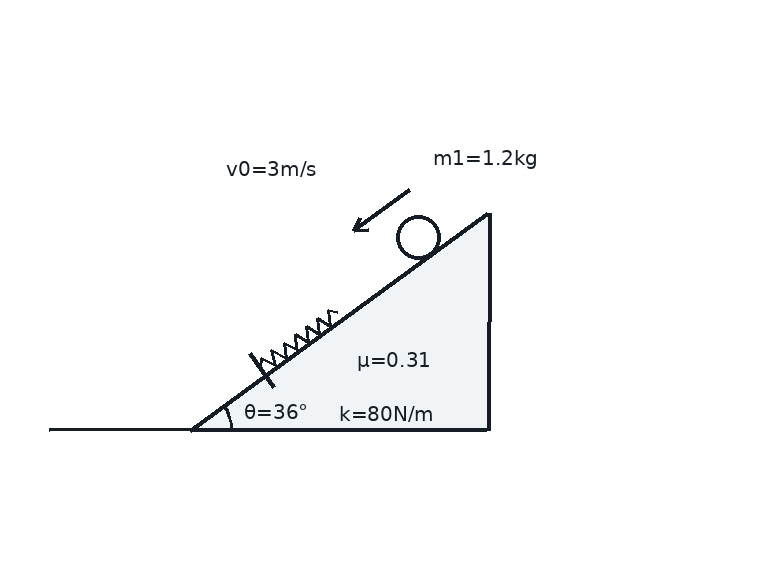ball: (394, 213, 442, 261)
ramp: (189, 211, 490, 431)
spring: (258, 308, 339, 370)
